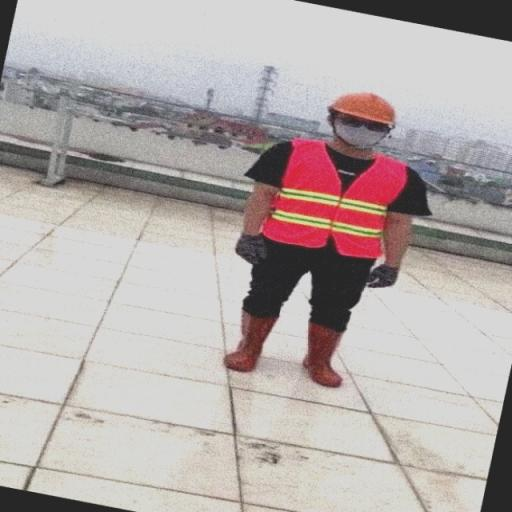Person: (226, 80, 421, 412)
boots: (290, 305, 362, 389), (220, 302, 280, 375)
gloves: (361, 258, 406, 295), (233, 233, 271, 266)
goggles: (334, 115, 395, 130)
helmet: (329, 86, 398, 126)
vest: (254, 144, 414, 259)
